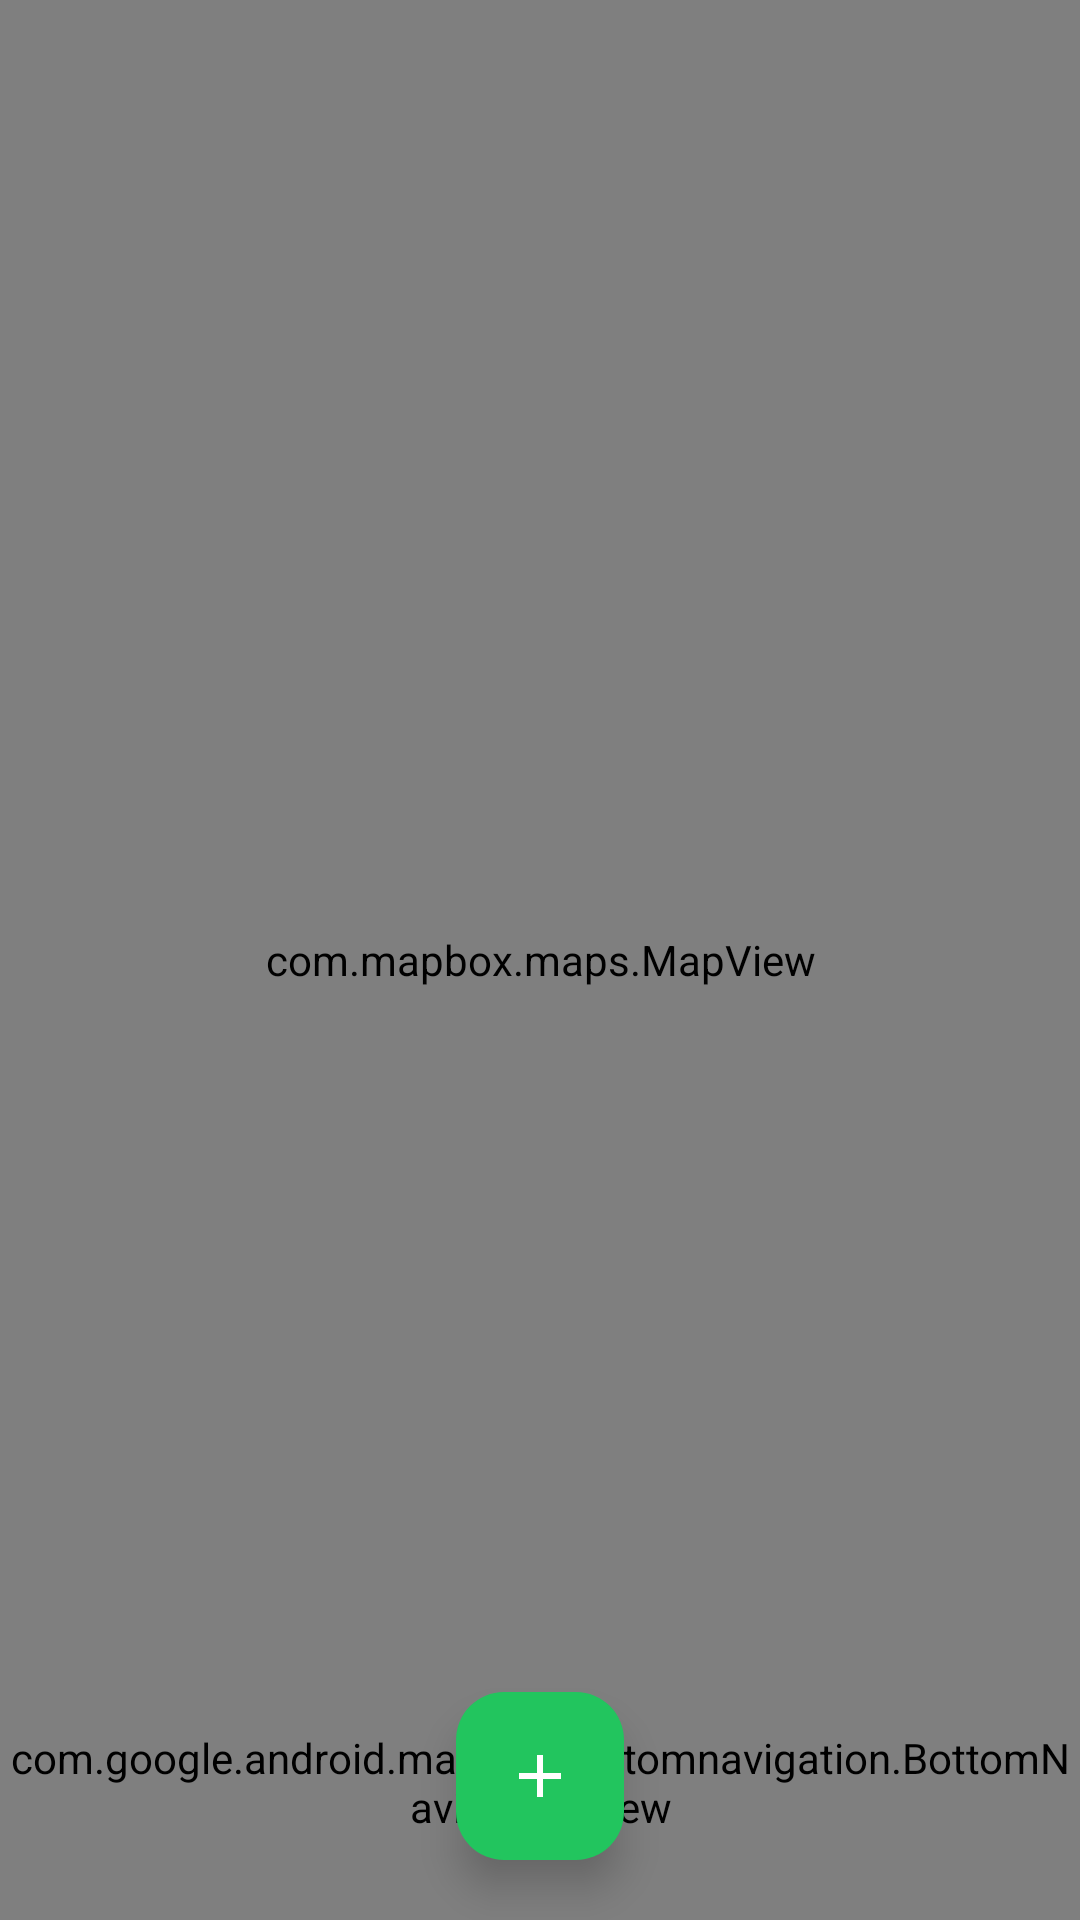

Where to tap for icons on this 1080w x 1920h app screen, as (x,y):
Đăng bài mới: (540,1776)
